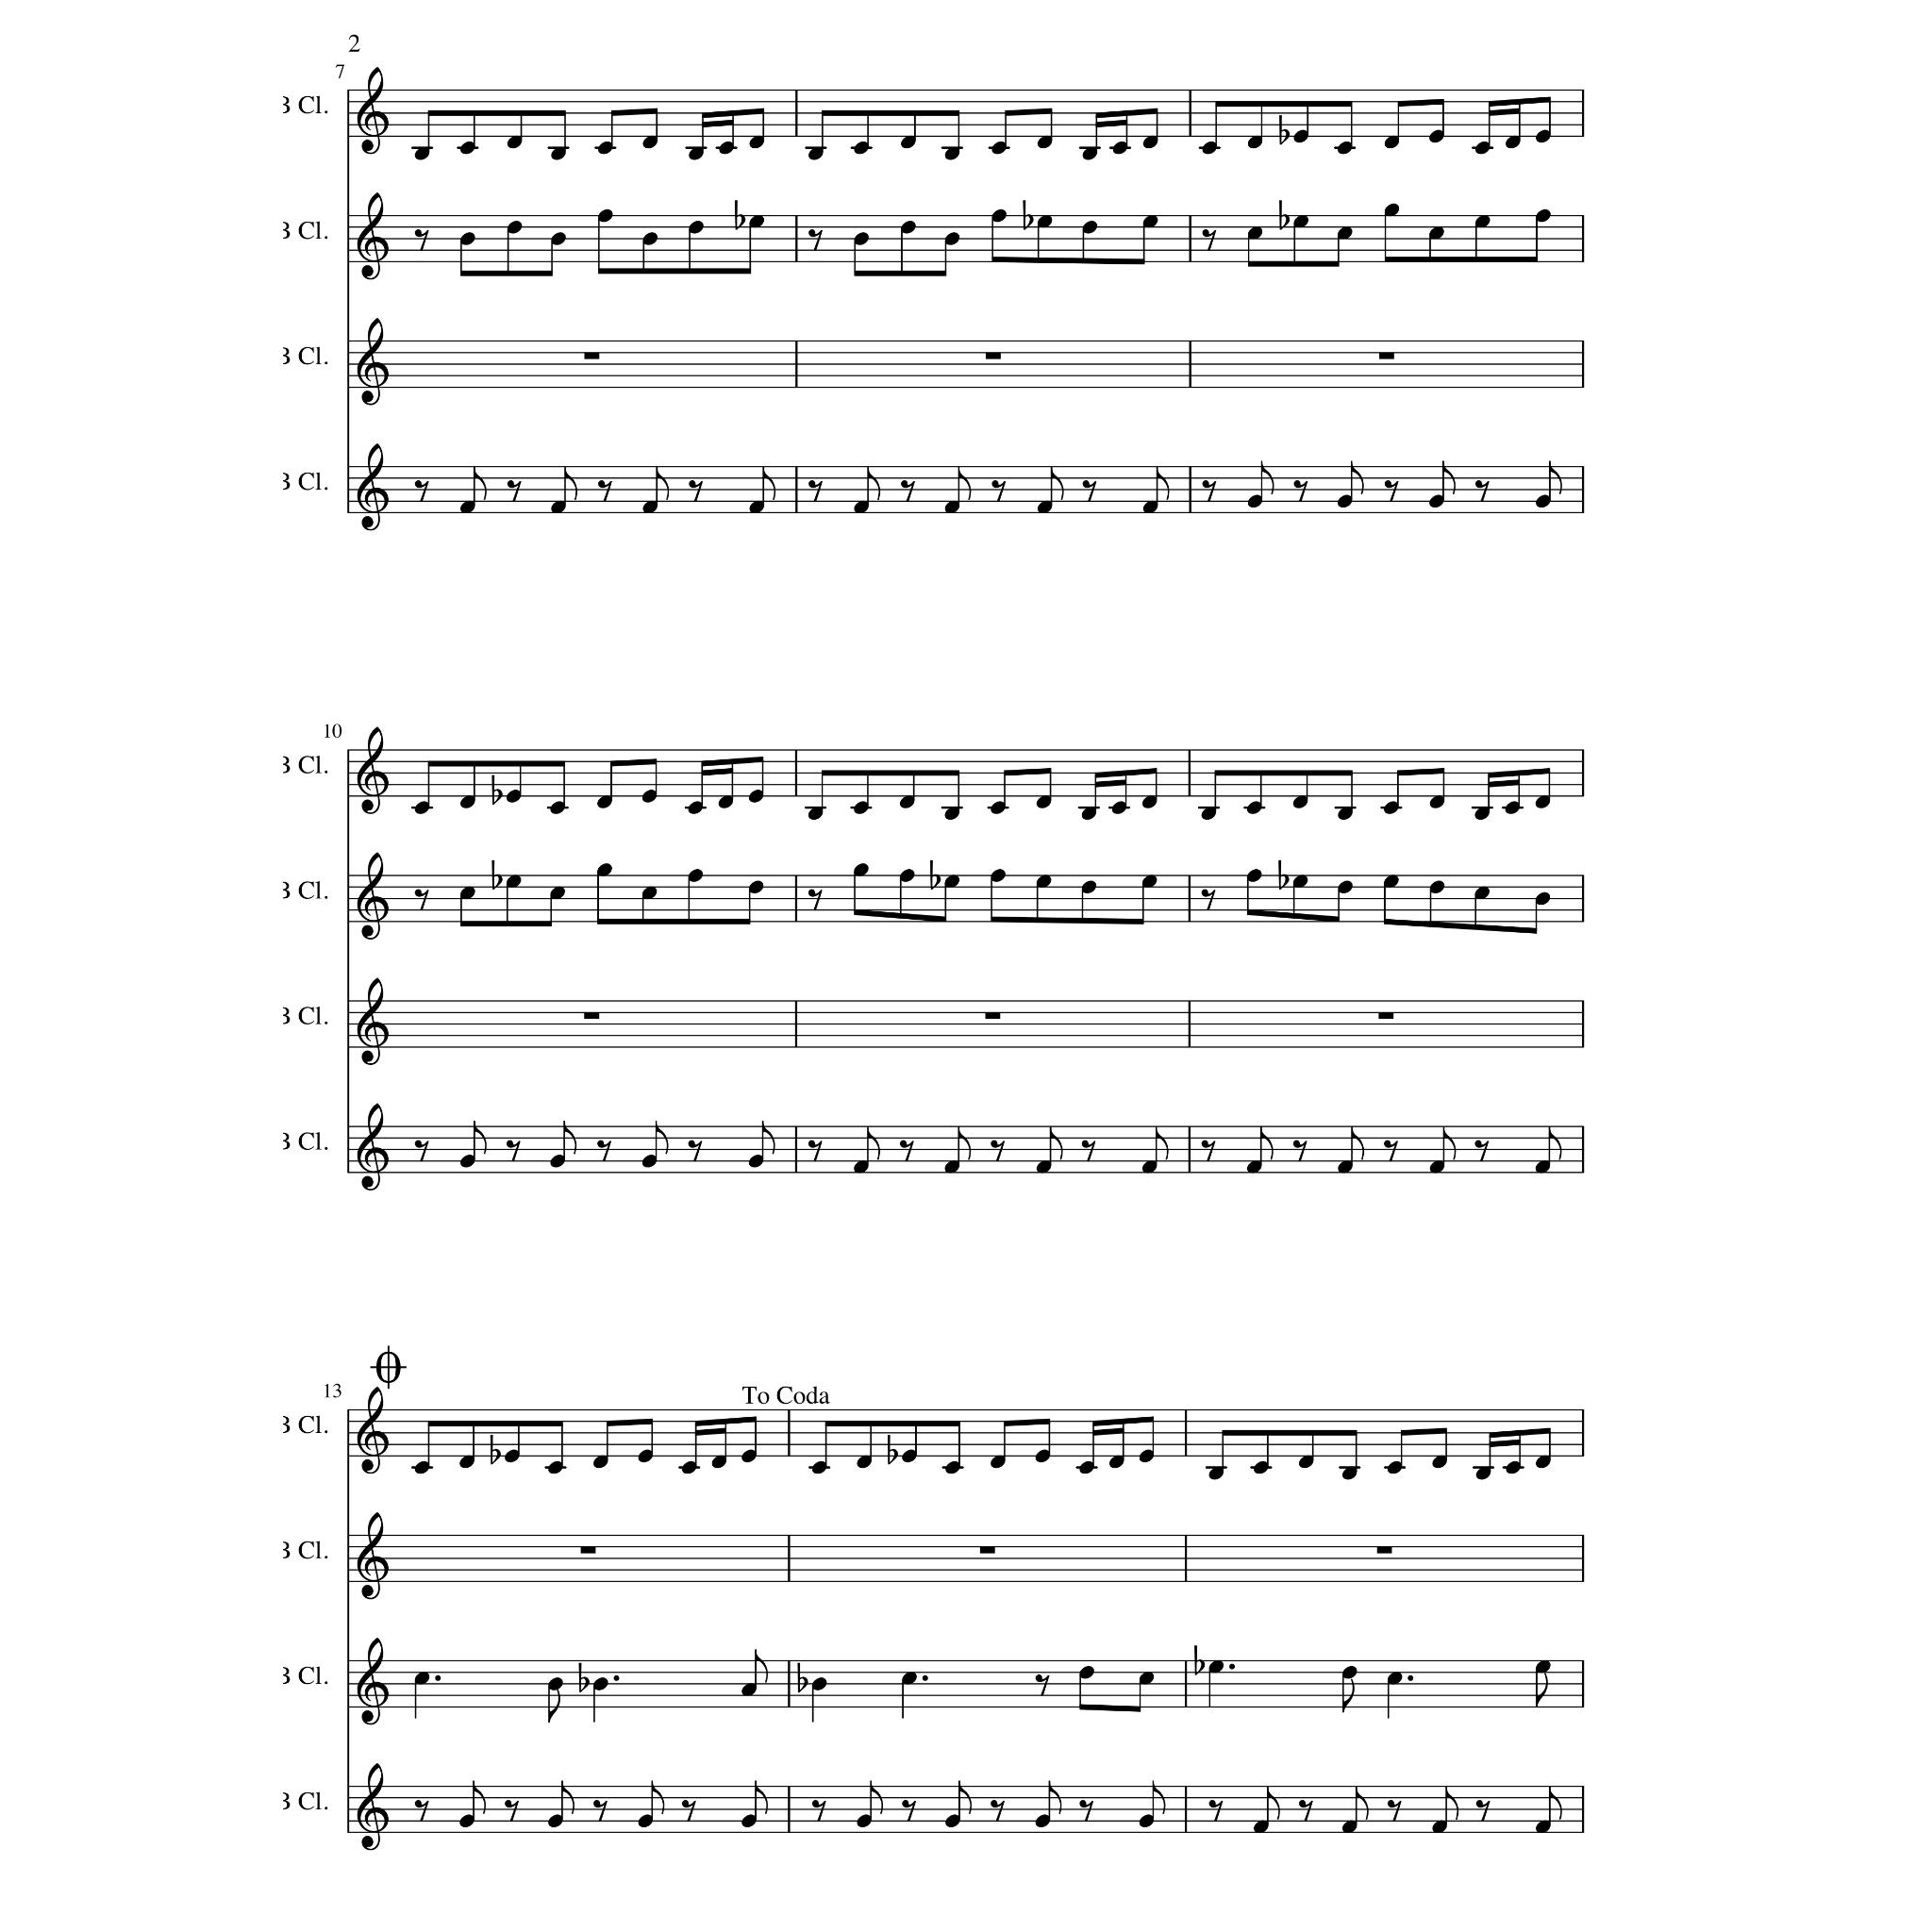flag8thDown: (1536, 1672, 1549, 1707), (1343, 1678, 1355, 1712), (549, 1689, 560, 1723)
flag8thUp: (1157, 467, 1170, 501), (1261, 461, 1274, 495), (1051, 467, 1064, 501), (1549, 461, 1562, 495), (1351, 461, 1364, 495), (1442, 461, 1456, 495), (564, 467, 577, 501), (474, 467, 487, 501), (656, 467, 669, 501), (867, 467, 880, 501), (958, 467, 972, 501), (762, 467, 775, 501), (1156, 1126, 1169, 1160), (1260, 1126, 1274, 1160), (1050, 1126, 1063, 1160), (1549, 1126, 1562, 1160), (1351, 1126, 1364, 1160), (1443, 1126, 1457, 1160), (563, 1121, 576, 1155), (656, 1121, 669, 1155), (474, 1121, 487, 1155), (867, 1126, 880, 1160), (958, 1126, 971, 1160), (762, 1121, 775, 1155), (1153, 1780, 1166, 1814), (1048, 1780, 1061, 1814), (958, 1780, 972, 1814), (1549, 1787, 1562, 1821), (1356, 1787, 1369, 1821), (1267, 1787, 1280, 1821), (1445, 1787, 1458, 1821), (561, 1780, 575, 1814), (651, 1780, 664, 1814), (473, 1780, 486, 1814), (870, 1780, 883, 1814), (755, 1780, 768, 1814), (755, 1649, 768, 1683)
gClef: (357, 192, 389, 280), (357, 318, 389, 407), (357, 443, 389, 532), (357, 67, 389, 156), (357, 852, 389, 941), (357, 977, 389, 1066), (357, 1103, 389, 1191), (357, 726, 389, 815), (357, 1386, 389, 1474), (357, 1511, 389, 1600), (357, 1637, 389, 1725), (357, 1762, 389, 1851)
noteheadBlack: (1108, 1455, 1124, 1470), (1534, 1455, 1551, 1470), (1298, 1455, 1315, 1470), (592, 1455, 609, 1470), (458, 1455, 475, 1470), (991, 1455, 1006, 1470), (1432, 1455, 1447, 1470), (857, 1455, 872, 1470), (711, 1455, 726, 1470), (1292, 130, 1309, 143), (1292, 215, 1309, 228), (1036, 501, 1053, 514), (1081, 147, 1098, 160), (1036, 136, 1053, 149), (1036, 215, 1053, 228), (1141, 136, 1158, 149), (1141, 215, 1158, 228), (1141, 501, 1158, 514), (1111, 142, 1128, 155), (1081, 221, 1098, 234), (1534, 130, 1551, 143), (1534, 209, 1551, 223), (1534, 495, 1551, 508), (1504, 136, 1521, 149), (1383, 136, 1400, 149), (1383, 204, 1400, 217), (1336, 142, 1353, 155), (1336, 226, 1353, 240), (1336, 495, 1353, 508), (1474, 142, 1491, 155), (1474, 215, 1491, 228), (1428, 130, 1445, 143), (1428, 226, 1445, 240), (1428, 495, 1445, 508), (596, 142, 613, 155), (596, 209, 613, 223), (991, 209, 1008, 223), (506, 221, 523, 234), (641, 136, 658, 149), (641, 233, 658, 246), (641, 501, 658, 514), (458, 501, 475, 514), (458, 233, 475, 246), (506, 136, 523, 149), (413, 147, 430, 160), (458, 142, 475, 155), (853, 233, 870, 246), (853, 501, 870, 514), (853, 142, 870, 155), (943, 501, 960, 514), (943, 233, 960, 246), (991, 142, 1008, 155), (943, 147, 960, 160), (808, 147, 824, 160), (1200, 807, 1217, 820), (1245, 802, 1262, 815), (1245, 869, 1262, 882), (1245, 1160, 1262, 1174), (1534, 892, 1551, 906), (1534, 1160, 1551, 1174), (1534, 795, 1551, 808), (1504, 802, 1521, 815), (1474, 807, 1491, 820), (1474, 887, 1491, 900), (1428, 795, 1445, 808), (1428, 881, 1445, 894), (1428, 1160, 1445, 1174), (549, 802, 566, 815), (549, 887, 566, 900), (549, 1155, 566, 1168), (458, 1155, 475, 1168), (458, 887, 475, 900), (413, 802, 430, 815), (458, 795, 475, 808), (853, 802, 870, 815), (853, 863, 870, 876), (853, 1160, 870, 1174), (943, 875, 960, 889), (943, 1160, 960, 1174), (943, 807, 960, 820), (898, 795, 915, 808), (898, 869, 915, 882), (747, 790, 764, 803), (747, 881, 764, 894), (747, 1155, 764, 1168), (717, 795, 734, 808), (1207, 1660, 1224, 1674), (1207, 1467, 1224, 1480), (1034, 1450, 1051, 1463), (1034, 1814, 1051, 1827), (1138, 1814, 1155, 1827), (1138, 1672, 1155, 1685), (1138, 1450, 1155, 1463), (1534, 1820, 1551, 1833), (1534, 1660, 1551, 1674), (1341, 1666, 1358, 1679), (1341, 1820, 1358, 1833), (1341, 1467, 1358, 1480), (592, 1677, 609, 1690), (458, 1814, 475, 1827), (413, 1672, 430, 1685), (413, 1461, 430, 1474), (1202, 142, 1217, 155), (1247, 495, 1262, 508), (1247, 136, 1262, 149), (1247, 226, 1262, 240), (551, 501, 566, 514), (551, 147, 566, 160), (551, 233, 566, 246), (689, 147, 704, 160), (689, 221, 704, 234), (900, 136, 915, 149), (900, 221, 915, 234), (719, 142, 734, 155), (749, 501, 764, 514), (749, 215, 764, 228), (749, 136, 764, 149), (991, 802, 1006, 815), (1292, 795, 1307, 808), (1292, 875, 1307, 889), (1081, 807, 1096, 820), (1081, 881, 1096, 894), (1036, 795, 1051, 808), (1036, 875, 1051, 889), (1036, 1160, 1051, 1174), (1141, 795, 1157, 808), (1141, 875, 1157, 889), (1141, 1160, 1157, 1174), (991, 869, 1006, 882), (1111, 802, 1126, 815), (1383, 802, 1398, 815), (1383, 875, 1398, 889), (1338, 807, 1353, 820), (1338, 881, 1353, 894), (1338, 1160, 1353, 1174), (641, 887, 657, 900), (641, 1155, 657, 1168), (641, 790, 657, 803), (596, 795, 611, 808), (596, 863, 611, 876), (506, 875, 521, 889), (506, 790, 521, 803), (688, 802, 703, 815), (688, 869, 703, 882), (808, 807, 823, 820), (1253, 1820, 1268, 1833), (1253, 1461, 1268, 1474), (1079, 1666, 1094, 1679), (1079, 1461, 1094, 1474), (1506, 1461, 1521, 1474), (1475, 1467, 1491, 1480), (1432, 1820, 1447, 1833), (1387, 1672, 1402, 1685), (1387, 1461, 1402, 1474), (547, 1677, 562, 1690), (547, 1814, 562, 1827), (547, 1461, 562, 1474), (504, 1450, 519, 1463), (638, 1814, 653, 1827), (638, 1450, 653, 1463), (857, 1814, 872, 1827), (945, 1814, 960, 1827), (945, 1461, 960, 1474), (902, 1672, 917, 1685), (902, 1450, 917, 1463), (741, 1814, 757, 1827), (741, 1683, 757, 1696), (741, 1450, 757, 1463), (681, 1461, 696, 1474), (811, 1461, 826, 1474), (811, 1677, 826, 1690)
rest8th: (1202, 229, 1217, 252), (991, 480, 1006, 503), (1202, 480, 1217, 503), (1292, 480, 1307, 503), (1082, 480, 1097, 503), (1384, 480, 1399, 503), (1474, 480, 1490, 503), (597, 480, 612, 503), (507, 480, 522, 503), (688, 480, 703, 503), (414, 229, 429, 252), (414, 480, 429, 503), (900, 480, 915, 503), (808, 480, 823, 503), (808, 229, 823, 252), (1201, 1140, 1216, 1162), (1201, 889, 1216, 911), (1292, 1140, 1307, 1162), (990, 1140, 1005, 1162), (1081, 1140, 1096, 1162), (1383, 1140, 1398, 1162), (1474, 1140, 1489, 1162), (506, 1140, 521, 1162), (596, 1140, 611, 1162), (414, 889, 429, 911), (414, 1140, 429, 1162), (899, 1140, 914, 1162), (688, 1140, 703, 1162), (808, 1140, 823, 1162), (808, 889, 823, 911), (1208, 1800, 1224, 1823), (1035, 1674, 1050, 1696), (990, 1800, 1005, 1823), (1079, 1800, 1094, 1823), (1475, 1800, 1491, 1823), (1298, 1800, 1313, 1823), (1387, 1800, 1402, 1823), (504, 1800, 519, 1823), (592, 1800, 608, 1823), (414, 1800, 429, 1823), (901, 1800, 916, 1823), (681, 1800, 696, 1823), (811, 1800, 826, 1823)
restWhole: (985, 353, 1002, 360), (583, 353, 600, 360), (1377, 353, 1394, 360), (583, 1012, 600, 1020), (1377, 1012, 1394, 1020), (1375, 1546, 1392, 1554), (579, 1546, 596, 1554), (985, 1012, 1000, 1020), (979, 1546, 994, 1554)
